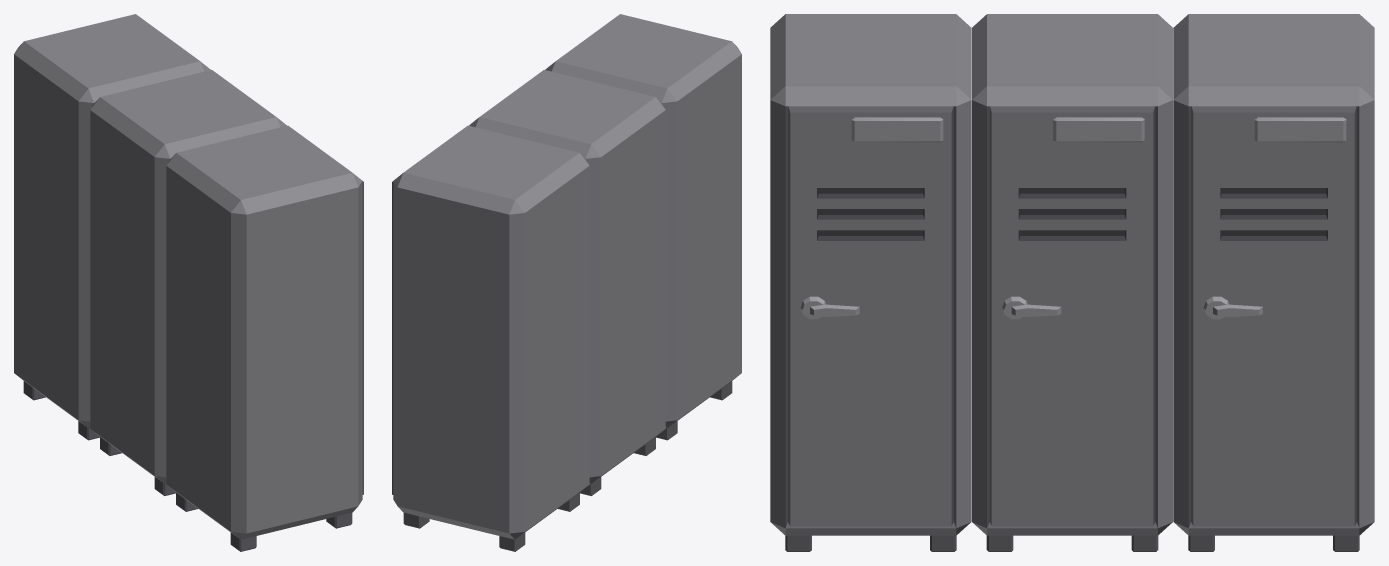
Rendered from locker2.fbx.
3 renders of one model, left to right at view 1: azimuth 30°, elevation 25°; view 2: azimuth 150°, elevation 25°; view 3: azimuth 270°, elevation 25°, orthographic. The views are drawn at different scales.
Parts seen in each view (by area): view 1: locker2; view 2: locker2; view 3: locker2.
Boxes of the visible parts, x1,y1,x2,y2 form: locker2: (14,14,363,551); locker2: (392,14,741,551); locker2: (770,14,1374,551).
Size of the model in its own units: 43.07 by 102 by 120.
1 material, 1 textured.
